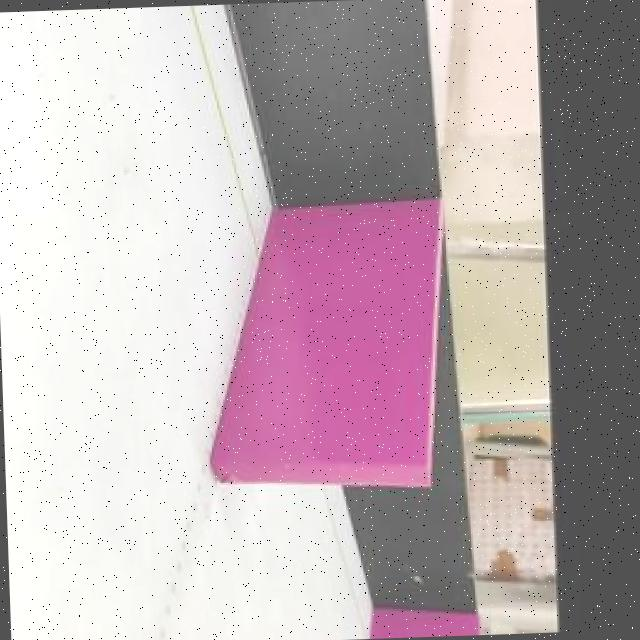xparking: (203, 200, 430, 485)
